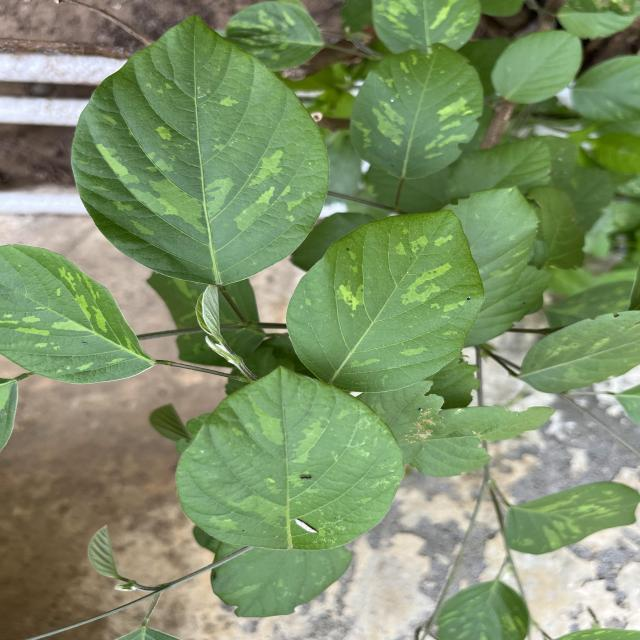Desmodium gangeticum: (68, 9, 334, 290), (284, 206, 488, 396), (0, 242, 159, 388)
